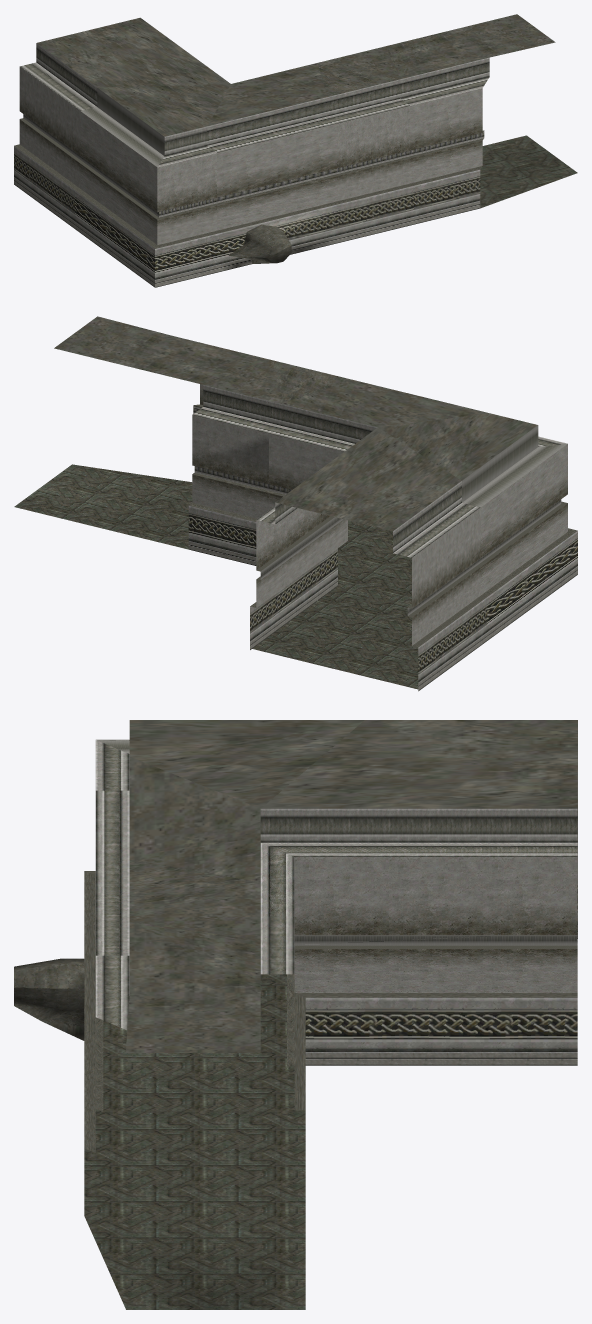
The model's file is DWARF_PALACE_ARKENSTONE_ROOM_HALLWAYA.fbx.
The picture shows the model from 3 angles, top to bottom: view 1: azimuth 30°, elevation 25°; view 2: azimuth 150°, elevation 25°; view 3: azimuth 270°, elevation 25°; orthographic projection. The views are drawn at different scales.
Parts seen in each view (by area): view 1: DWARF_PALACE_ARKENSTONE_ROOM_HALLWAYA; view 2: DWARF_PALACE_ARKENSTONE_ROOM_HALLWAYA; view 3: DWARF_PALACE_ARKENSTONE_ROOM_HALLWAYA.
Part boxes in pixels (x1,y1,x2,y2): DWARF_PALACE_ARKENSTONE_ROOM_HALLWAYA: (14,14,577,287); DWARF_PALACE_ARKENSTONE_ROOM_HALLWAYA: (14,316,577,691); DWARF_PALACE_ARKENSTONE_ROOM_HALLWAYA: (14,720,577,1309).
Bounding box in the file's own units: 234005 × 70000 × 150345.
7 materials, 7 textured.
